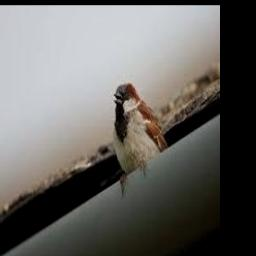Sparrow: (112, 84, 169, 191)
